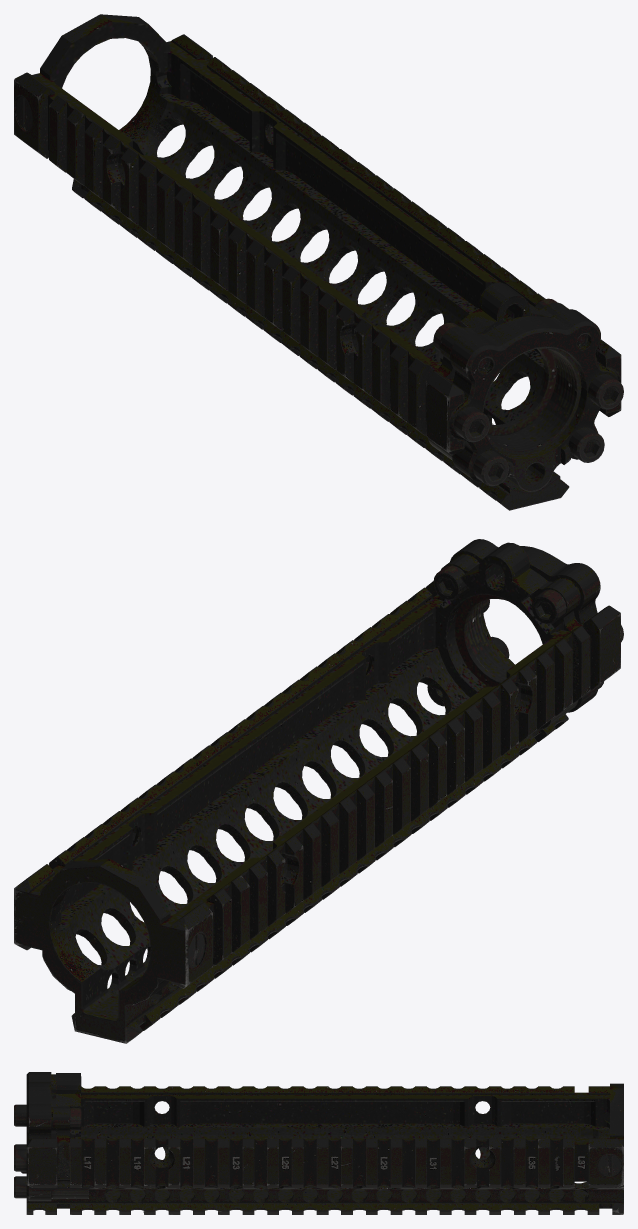
3 renders of one model, top to bottom at view 1: azimuth 30°, elevation 25°; view 2: azimuth 150°, elevation 25°; view 3: azimuth 270°, elevation 25°, orthographic. The views are drawn at different scales.
Visible parts, largest first — view 1: TW_588b56d02459771481110ae2_PZ_Import; view 2: TW_588b56d02459771481110ae2_PZ_Import; view 3: TW_588b56d02459771481110ae2_PZ_Import.
Part boxes in pixels (<box>): TW_588b56d02459771481110ae2_PZ_Import: <box>14,14,623,510</box>; TW_588b56d02459771481110ae2_PZ_Import: <box>14,539,623,1043</box>; TW_588b56d02459771481110ae2_PZ_Import: <box>14,1072,623,1214</box>.
Size of the model in its own units: 0.0316 by 0.1393 by 0.0333.
1 material, 1 textured.
